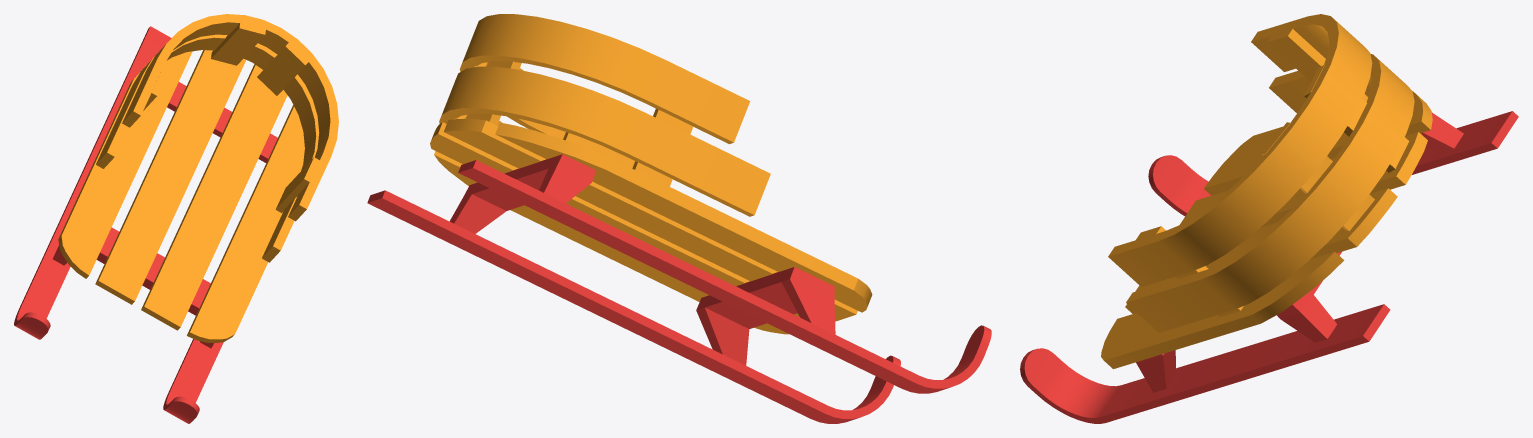
The model's file is sled.glb.
The picture shows the model from 3 angles, left to right: view 1: azimuth 30°, elevation 25°; view 2: azimuth 150°, elevation 25°; view 3: azimuth 270°, elevation 25°; orthographic projection. The views are drawn at different scales.
Parts seen in each view (by area): view 1: Plane.309; view 2: Plane.309; view 3: Plane.309.
Boxes of the visible parts, box(x1,y1,x2,y2) form: Plane.309: box(14, 14, 338, 423); Plane.309: box(367, 14, 991, 423); Plane.309: box(1020, 14, 1518, 423).
Size of the model in its own units: 2.32 by 1.91 by 1.85.
Materials: 1 (1 with a texture image).
